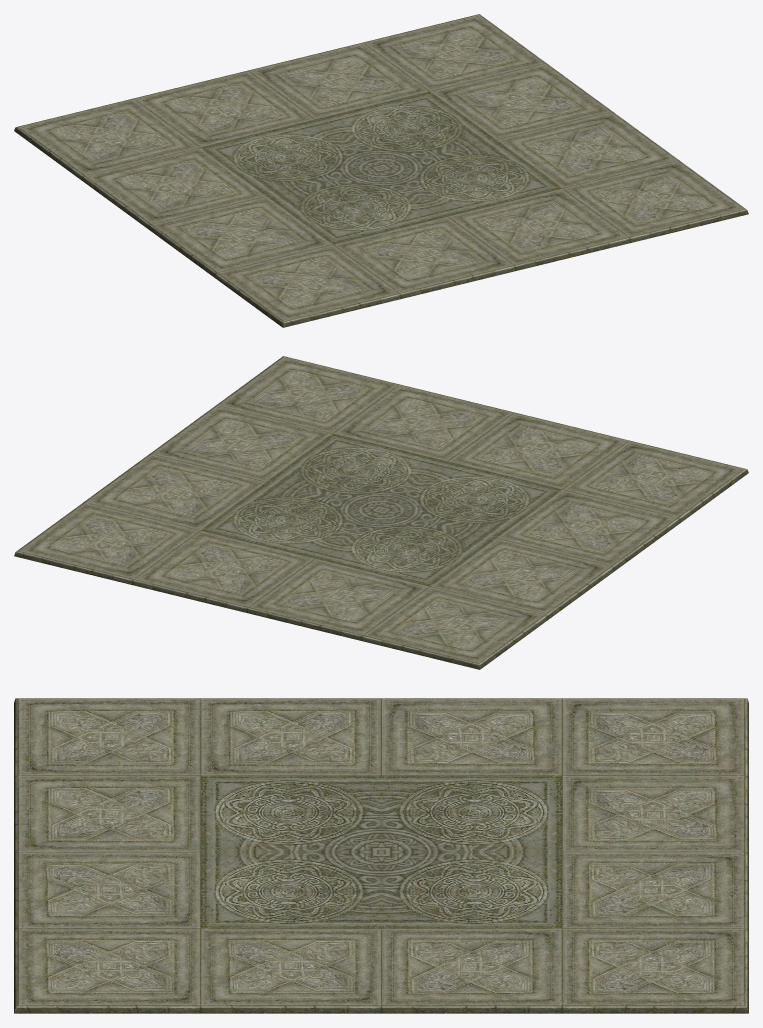
Rendered from secret_floor_01.fbx.
3 views of the same model, one above another, from view 1: azimuth 30°, elevation 25°; view 2: azimuth 150°, elevation 25°; view 3: azimuth 270°, elevation 25° (orthographic). The views are drawn at different scales.
Visible parts, largest first — view 1: secret_Floor_01; view 2: secret_Floor_01; view 3: secret_Floor_01.
Part boxes in pixels (x1=…): secret_Floor_01: x1=14, y1=14, x2=748, y2=327; secret_Floor_01: x1=14, y1=356, x2=748, y2=669; secret_Floor_01: x1=14, y1=698, x2=748, y2=1013.
Size of the model in its own units: 32.53 by 0.3042 by 32.53.
